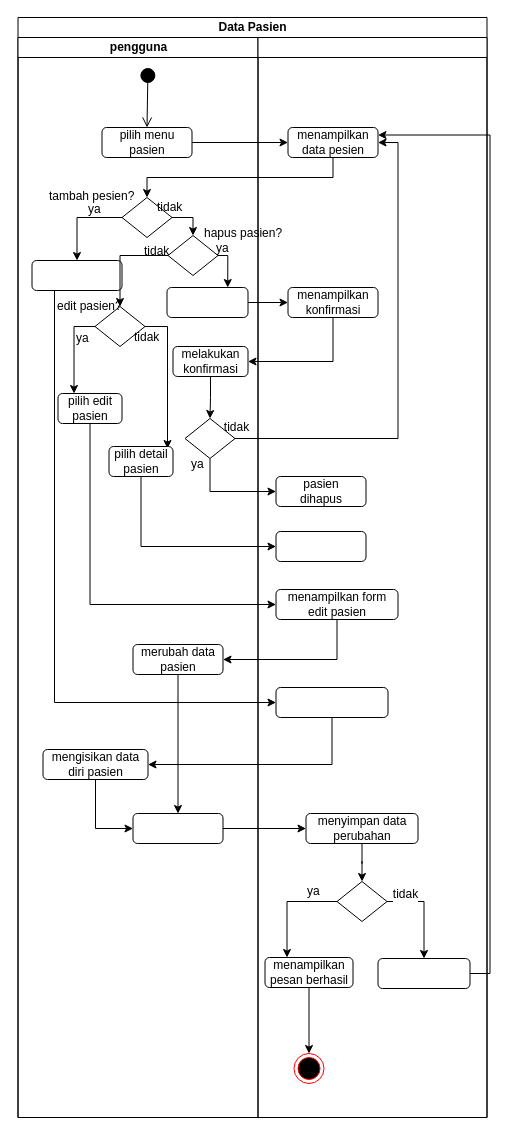
Image size: 515x1135. Some labels were removed from this diagram. Here are the shapes that lost their labels. From the top down, the box of each, then its label:
(31, 260, 122, 290): pilih tambah pasien
(166, 286, 248, 318): pilih hapus pasien
(275, 530, 366, 562): menampilkan detail pasien
(257, 36, 487, 1118): system
(275, 686, 388, 718): menampilkan form tambah pasien
(132, 812, 223, 844): pilih simpan
(377, 958, 470, 988): menampilkan pesan gagal
